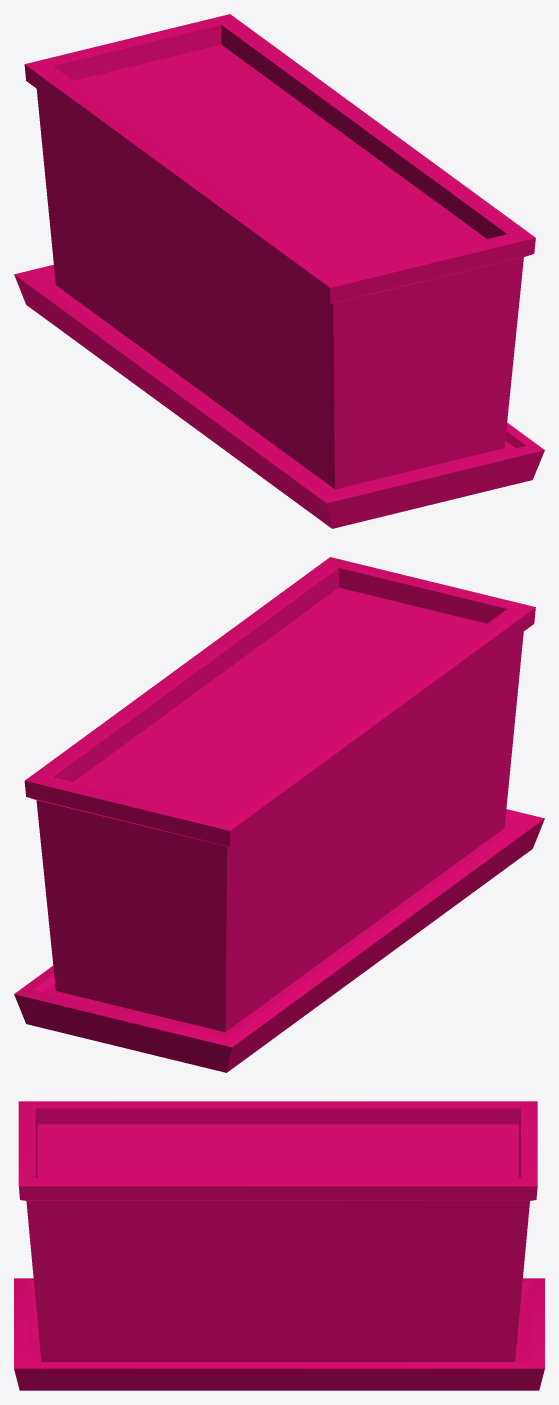
File: Plant_Pot_07.fbx
3 renders of one model, top to bottom at view 1: azimuth 30°, elevation 25°; view 2: azimuth 150°, elevation 25°; view 3: azimuth 270°, elevation 25°, orthographic. The views are drawn at different scales.
Parts seen in each view (by area): view 1: Plant_Pot_07; view 2: Plant_Pot_07; view 3: Plant_Pot_07.
Part boxes in pixels (x1,y1,x2,y2): Plant_Pot_07: (14, 14, 544, 528); Plant_Pot_07: (14, 557, 544, 1072); Plant_Pot_07: (14, 1101, 544, 1390).
Size of the model in its own units: 31.96 by 34 by 79.38.
